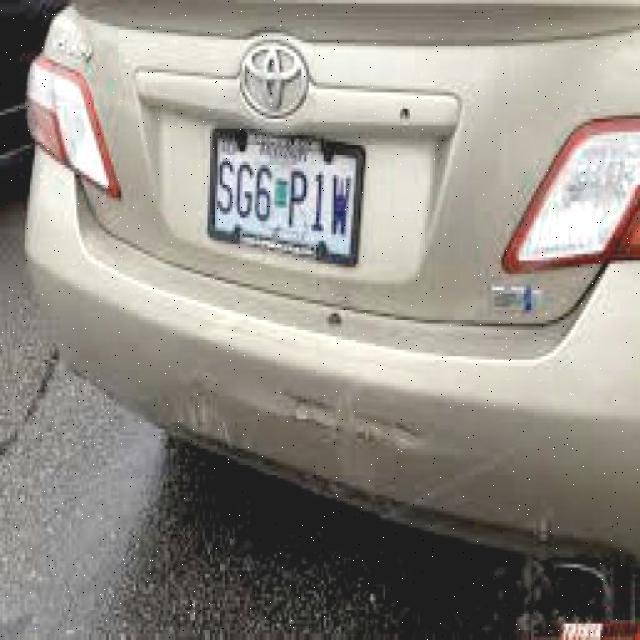car damage: (150, 375, 449, 467)
